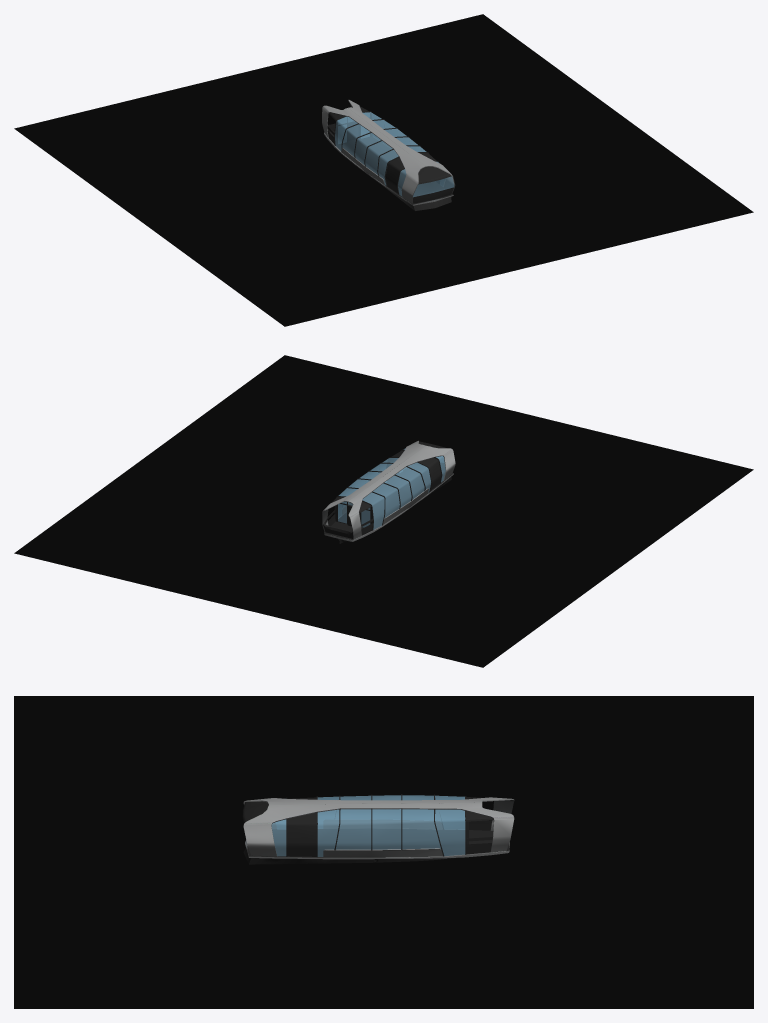
The model's file is boat-7.glb.
3 views of the same model, one above another, from view 1: azimuth 30°, elevation 25°; view 2: azimuth 150°, elevation 25°; view 3: azimuth 270°, elevation 25° (orthographic). The views are drawn at different scales.
Parts seen in each view (by area): view 1: Plane, СИНИЧКА2; view 2: Plane, СИНИЧКА2; view 3: Plane, СИНИЧКА2.
Boxes of the visible parts, x1=… form: Plane: x1=14, y1=14, x2=753, y2=326; СИНИЧКА2: x1=322, y1=100, x2=455, y2=210; Plane: x1=14, y1=355, x2=753, y2=667; СИНИЧКА2: x1=322, y1=440, x2=455, y2=543; Plane: x1=14, y1=696, x2=753, y2=1008; СИНИЧКА2: x1=242, y1=794, x2=514, y2=864.
Bounding box in the file's own units: 60.99 × 9.04 × 60.99.
Materials: 943 (2 with a texture image).
